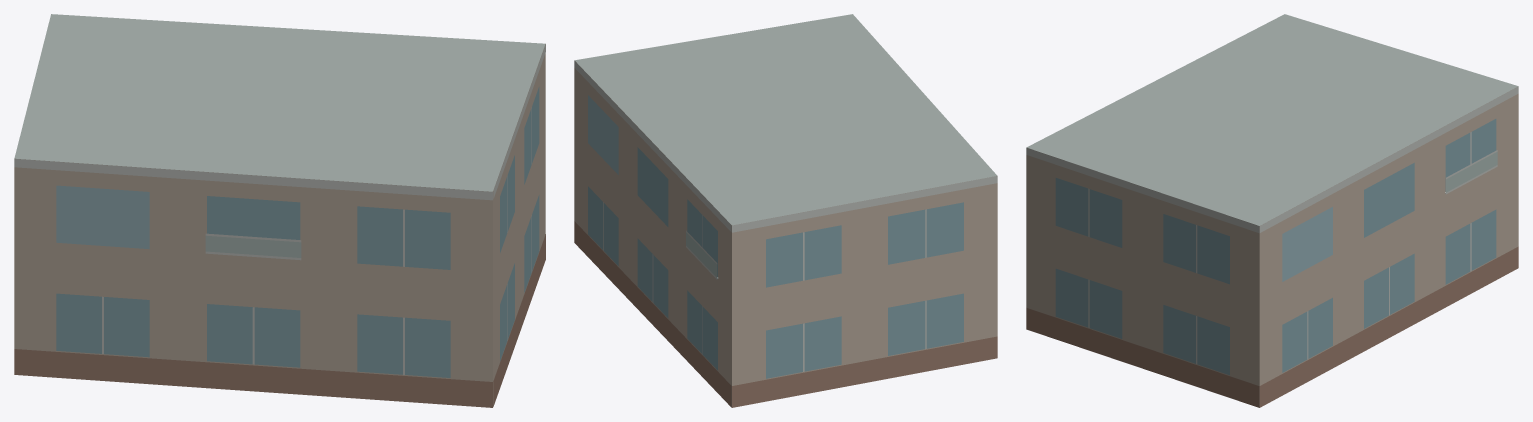
The model's file is survey-upis-32752333.glb.
3 views of the same model, side by side, from view 1: azimuth 30°, elevation 25°; view 2: azimuth 150°, elevation 25°; view 3: azimuth 270°, elevation 25° (orthographic). The views are drawn at different scales.
Visible parts, largest first — view 1: survey-upis-32752333.tmp; view 2: survey-upis-32752333.tmp; view 3: survey-upis-32752333.tmp.
Part boxes in pixels (x1,y1,x2,y2): survey-upis-32752333.tmp: (14, 14, 545, 407); survey-upis-32752333.tmp: (574, 14, 997, 407); survey-upis-32752333.tmp: (1026, 14, 1518, 407).
Bounding box in the file's own units: 15.26 × 6.1 × 14.98.
